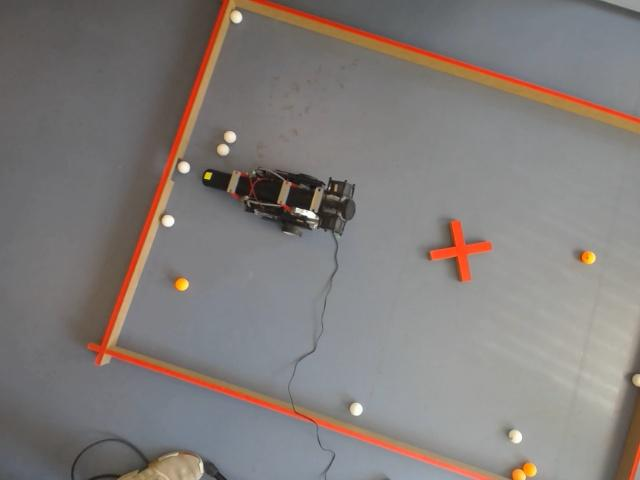orange: (581, 250, 597, 265), (174, 276, 188, 292), (524, 463, 538, 477), (511, 468, 526, 480)
robot: (201, 169, 355, 237)
robot-front: (202, 169, 227, 189)
white: (508, 428, 524, 446), (348, 401, 364, 417), (160, 214, 176, 228), (630, 372, 640, 390), (231, 8, 242, 24), (178, 160, 190, 174), (223, 131, 237, 143), (217, 144, 230, 156)
